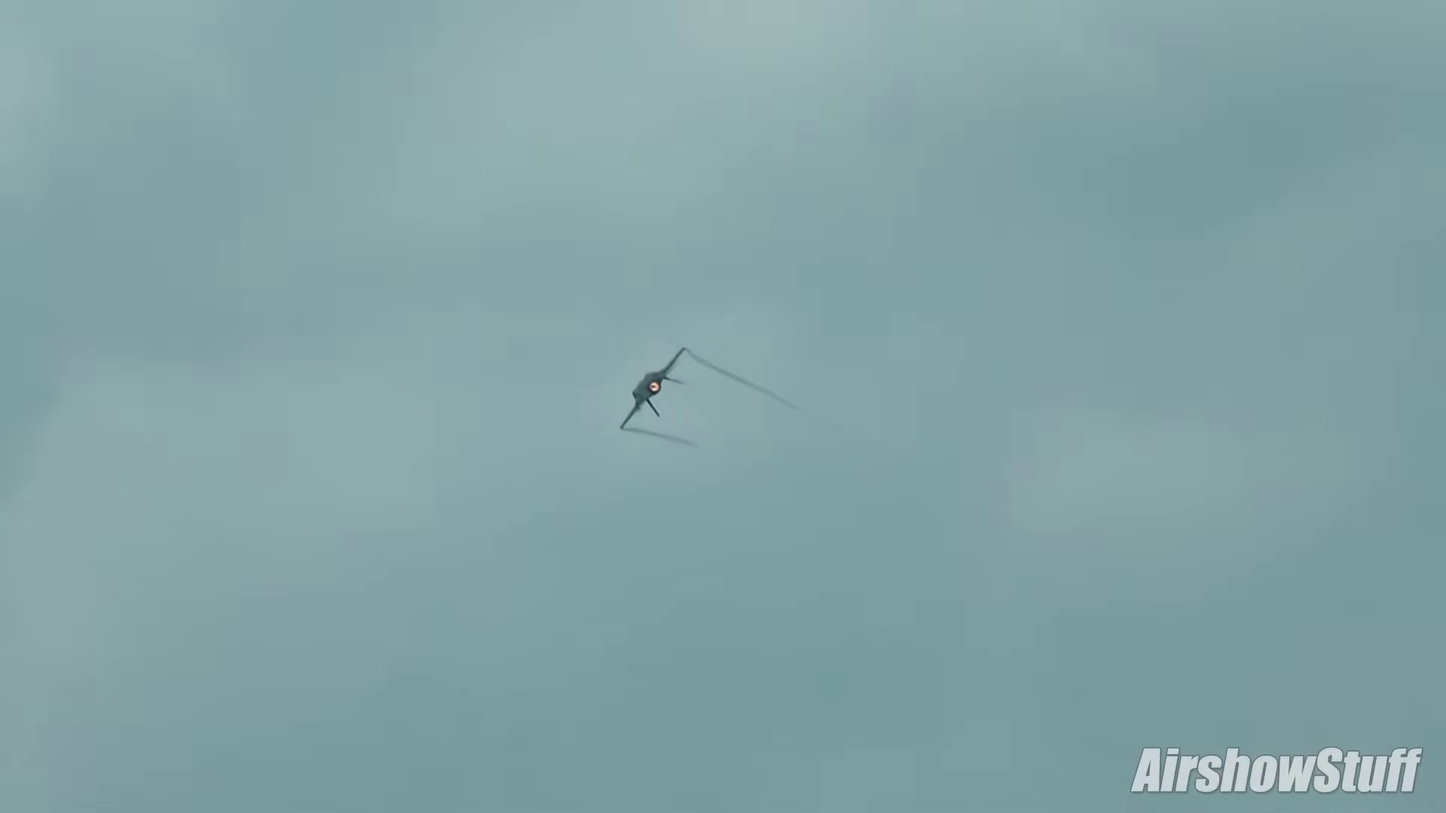F35: (616, 343, 692, 431)
